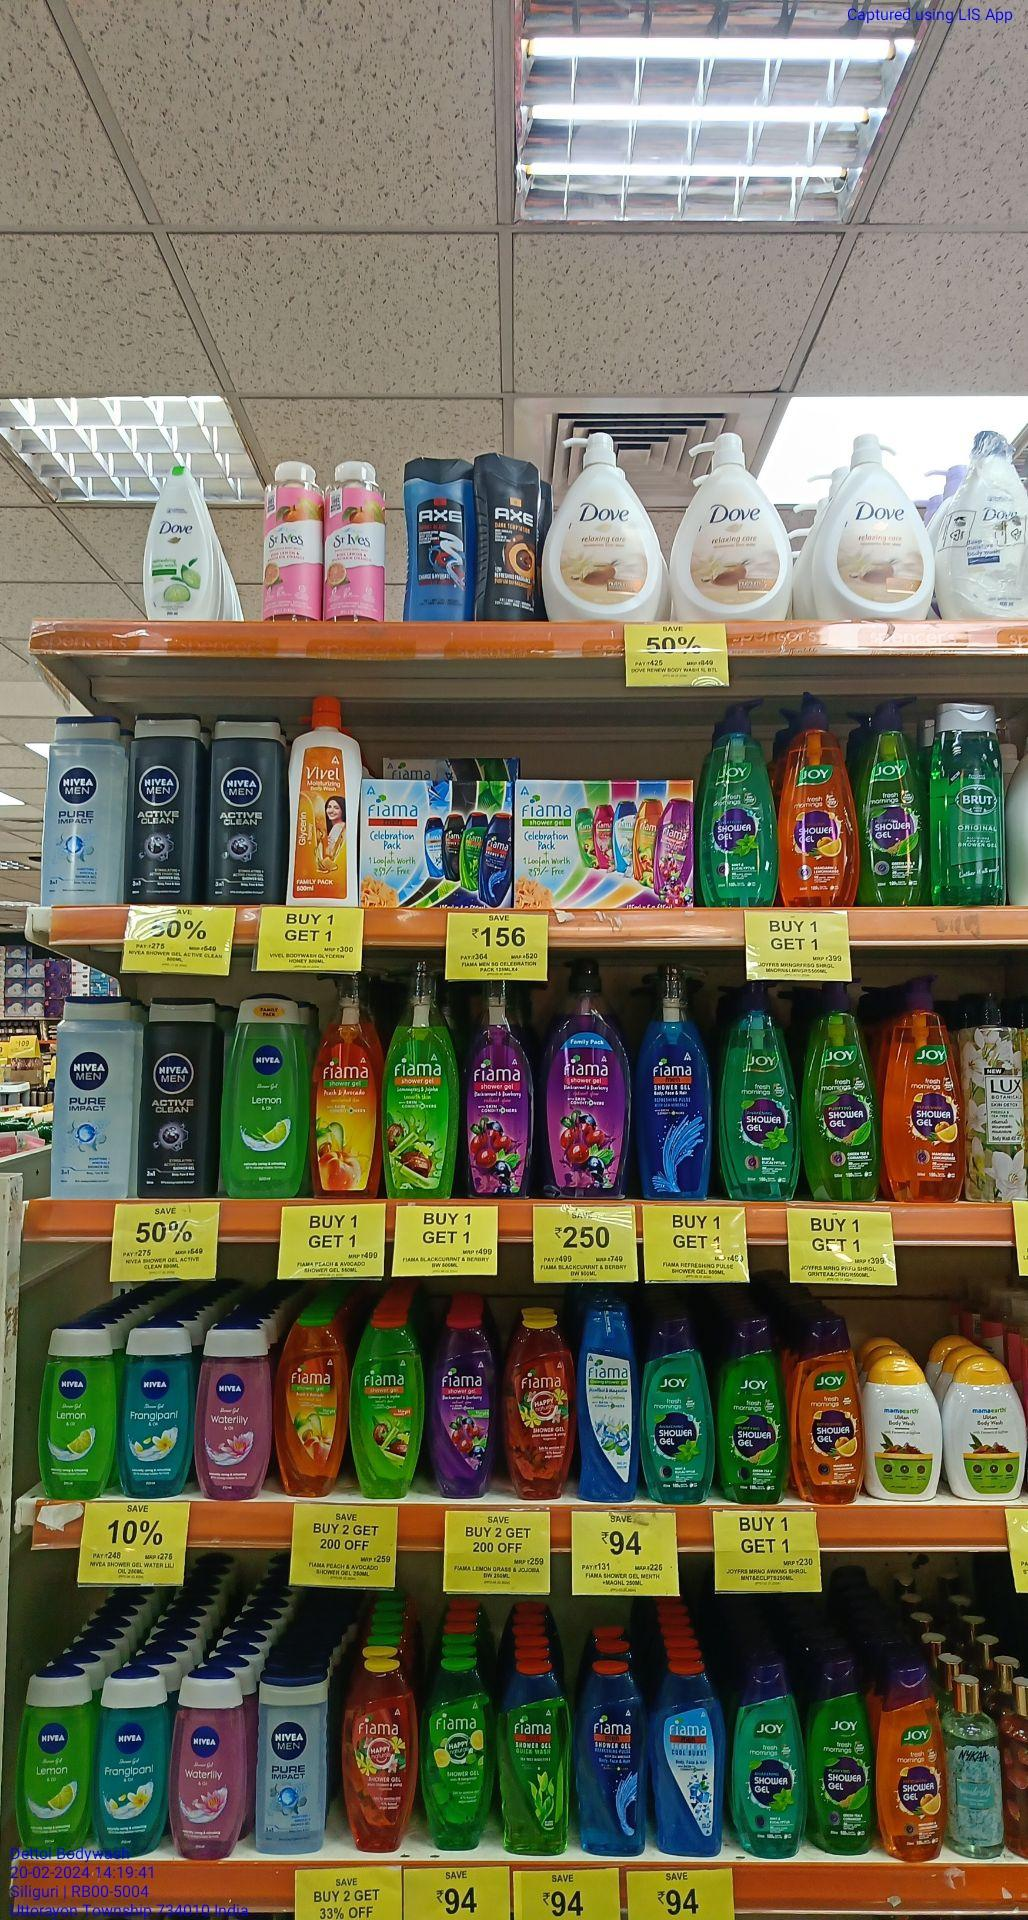Dove_Refreshing_Body_Wash_250ML: (142, 465, 218, 620)
Fiama_Shower_Gel_Lemongrass_and_Jojoba_250ML: (350, 1312, 426, 1497)
Fiama_Shower_Gel_Peach_and_Avocado_250ML: (275, 1317, 345, 1496)
Joy_Shower_Gel_Mandarin_and_Lemongrass_250ML: (878, 1650, 944, 1863), (791, 1317, 864, 1501)
Joy_Shower_Gel_Mint_and_Eucalyptus_250ML: (732, 1655, 807, 1860), (641, 1307, 713, 1506)
Nivea_Shower_Gel_Frangipani_and_Oil_250ML: (96, 1667, 165, 1855), (121, 1321, 192, 1497)
Nivea_Shower_Gel_Lemon_and_Oil_250ML: (38, 1321, 115, 1500), (18, 1667, 91, 1853)
Nivea_Shower_Gel_Waterlily_and_Oil_250ML: (170, 1662, 247, 1859), (198, 1319, 272, 1498)
